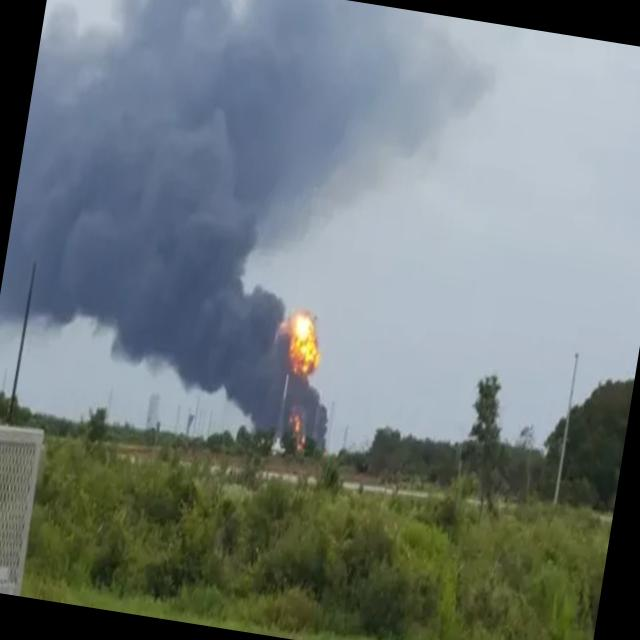Smoke: (0, 0, 469, 466)
